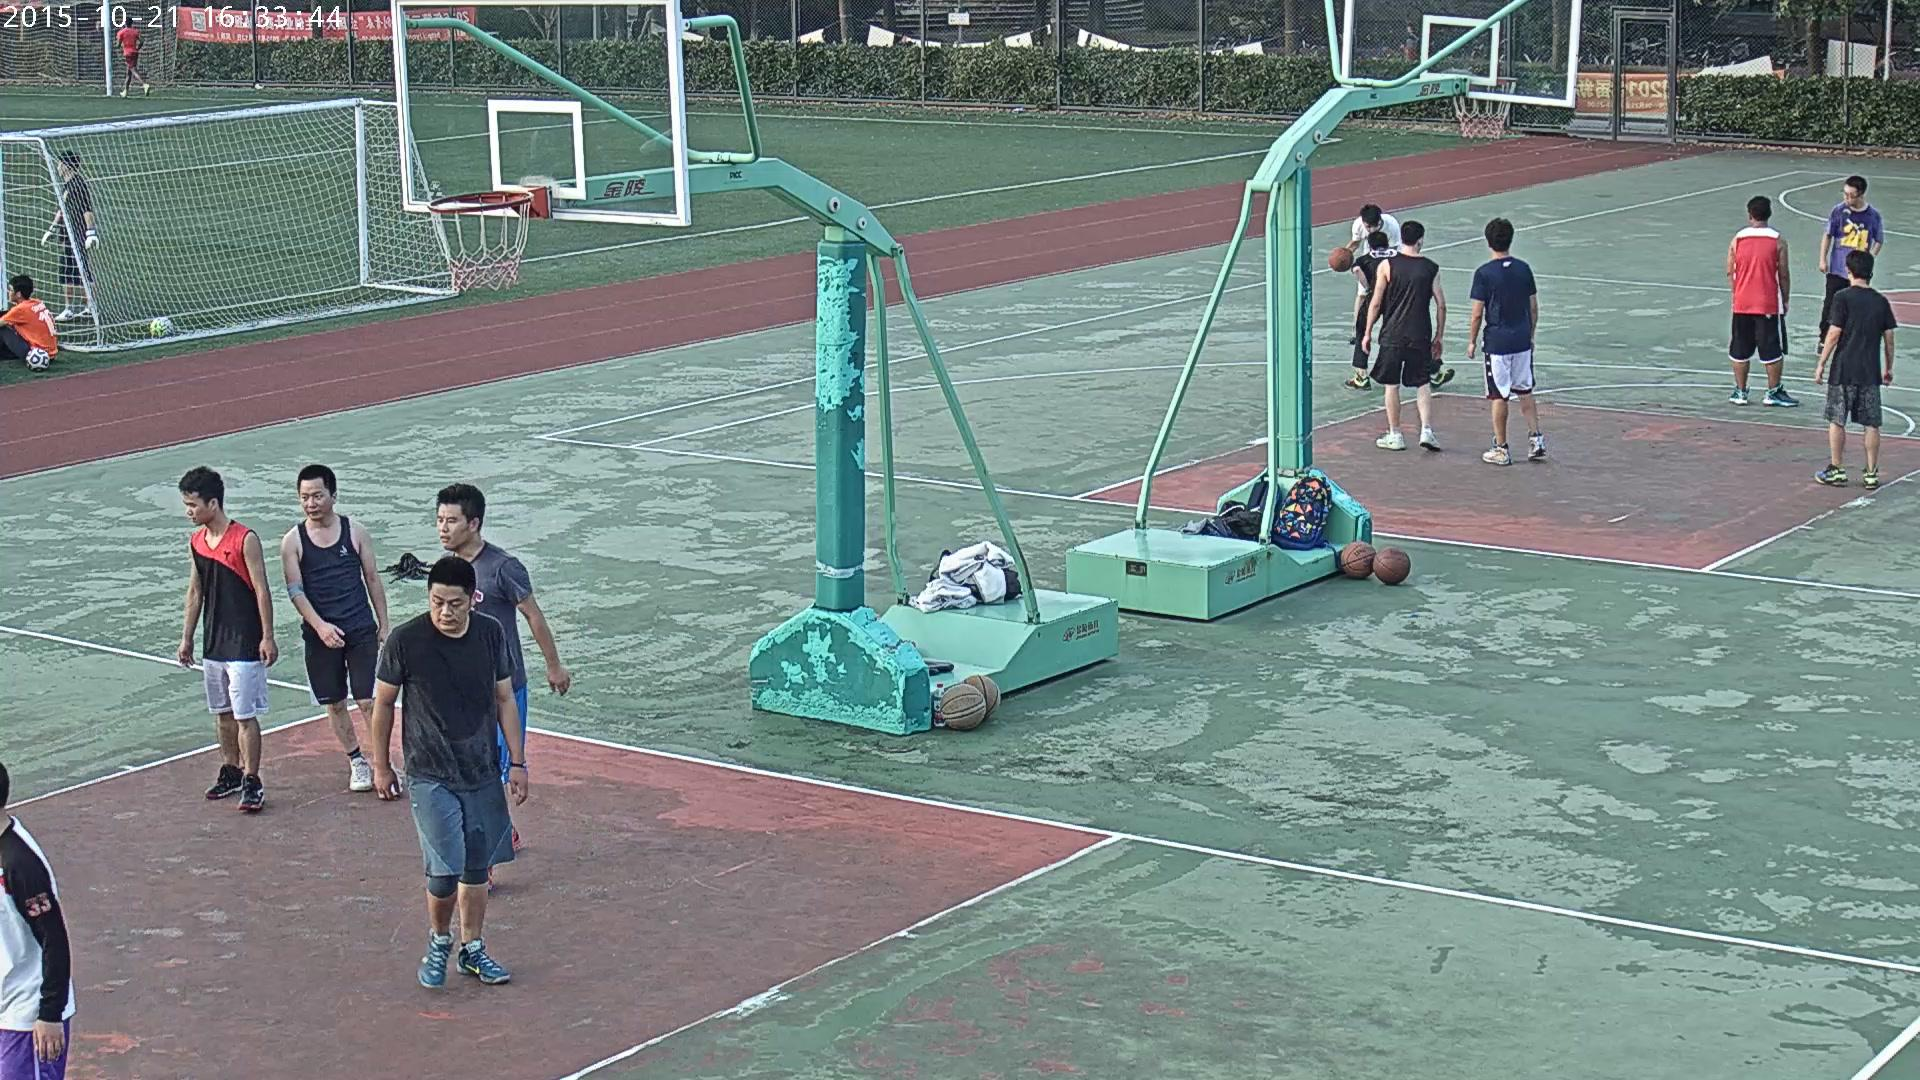face: (430, 583, 469, 631), (437, 501, 468, 549), (300, 478, 331, 520), (182, 491, 209, 525), (1843, 184, 1857, 206), (1363, 221, 1381, 231), (8, 283, 16, 300), (57, 158, 65, 175), (1407, 26, 1411, 32)
